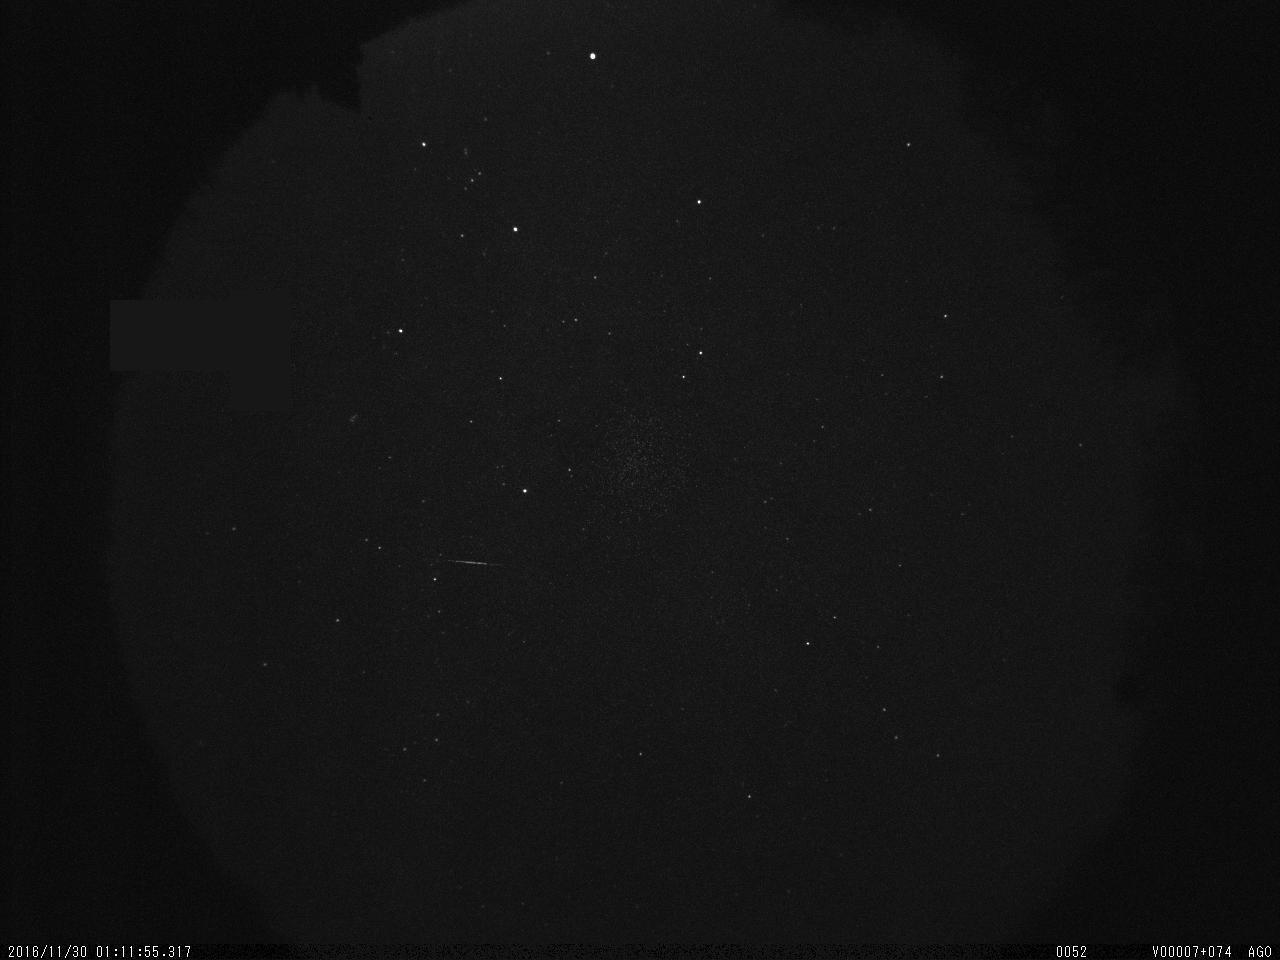meteor: (445, 552, 507, 580)
